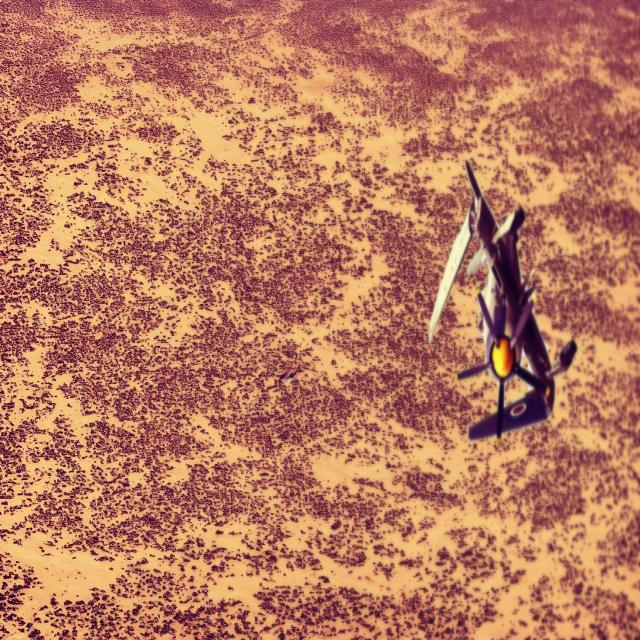airplane: (428, 160, 577, 442)
